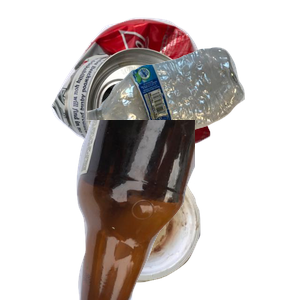glass: (60, 120, 300, 300)
metal: (48, 15, 251, 175)
plastic: (85, 45, 300, 175)
trash: (83, 163, 276, 300)
